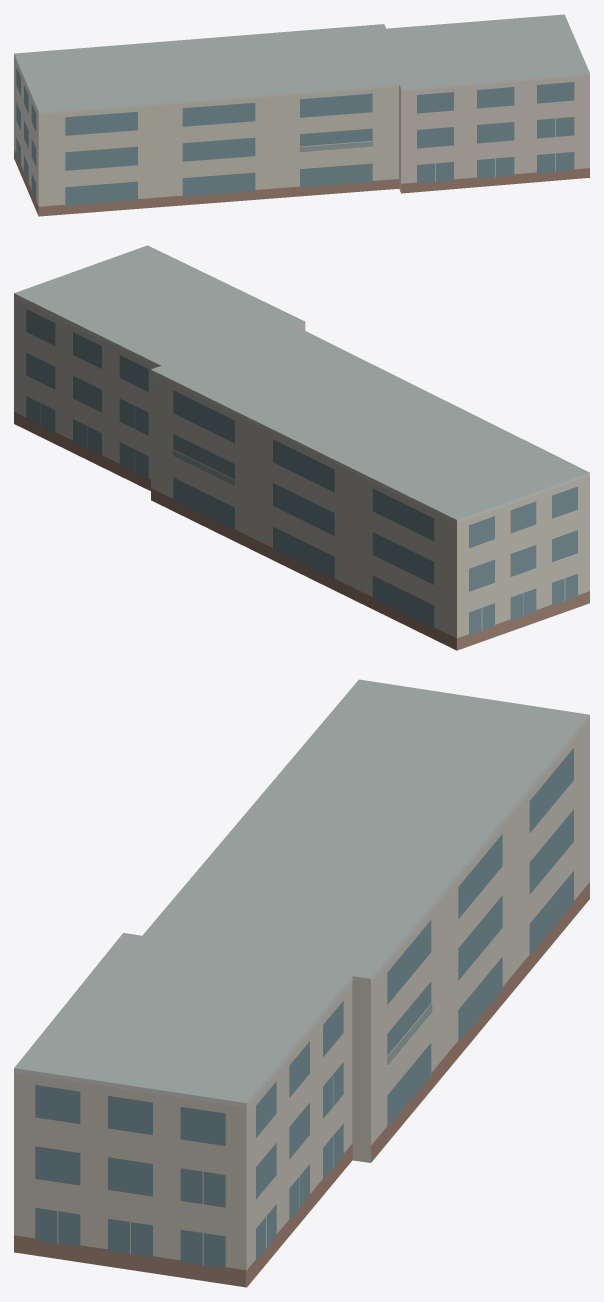
Rendered from survey-upis-32519882.glb.
3 renders of one model, top to bottom at view 1: azimuth 30°, elevation 25°; view 2: azimuth 150°, elevation 25°; view 3: azimuth 270°, elevation 25°, orthographic. The views are drawn at different scales.
Parts seen in each view (by area): view 1: survey-upis-32519882.tmp; view 2: survey-upis-32519882.tmp; view 3: survey-upis-32519882.tmp.
Part boxes in pixels (x1,y1,x2,y2): survey-upis-32519882.tmp: [14, 14, 589, 216]; survey-upis-32519882.tmp: [14, 245, 589, 650]; survey-upis-32519882.tmp: [14, 679, 589, 1287].
Bounding box in the file's own units: 45.12 × 9.15 × 25.92.
